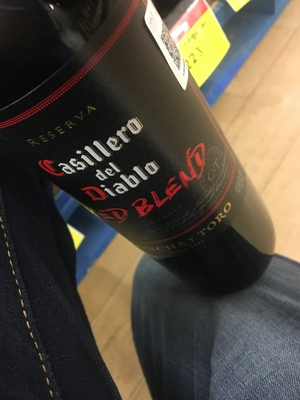casillero del diablo red blend: (11, 38, 270, 264)
